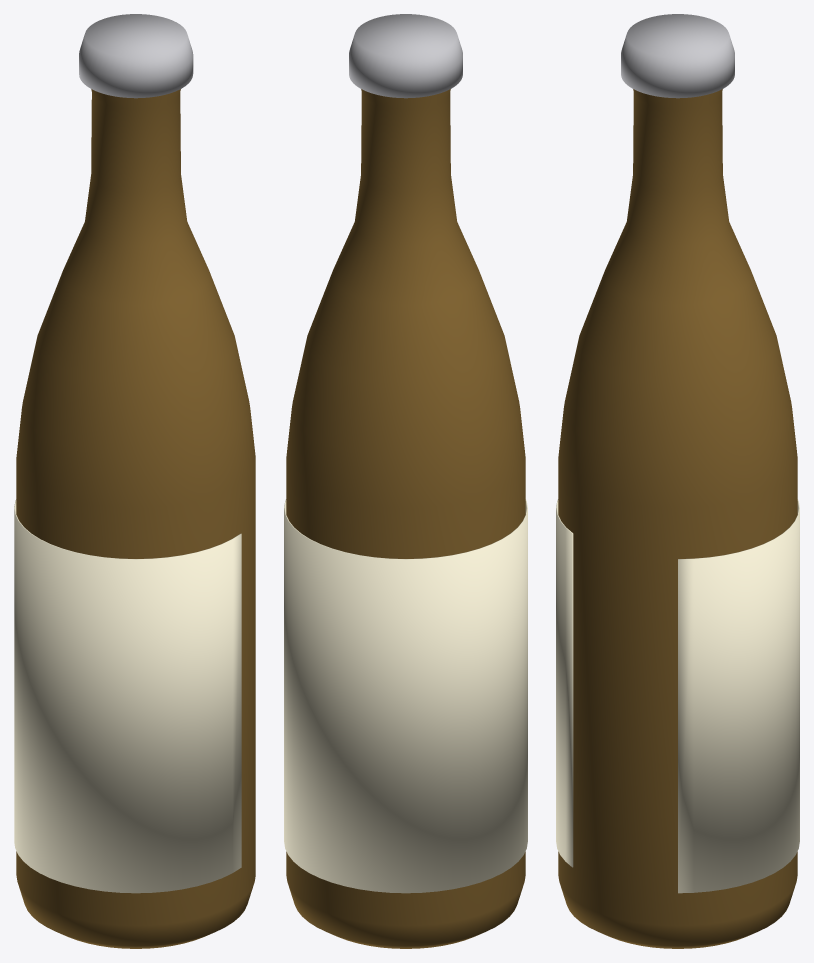
The model's file is bottle_beer.glb.
3 renders of one model, left to right at view 1: azimuth 30°, elevation 25°; view 2: azimuth 150°, elevation 25°; view 3: azimuth 270°, elevation 25°, orthographic.
Parts seen in each view (by area): view 1: Glass, Label, Cap; view 2: Glass, Label, Cap; view 3: Glass, Label, Cap.
Part boxes in pixels (<box>): Glass: <box>16,89,255,948</box>; Label: <box>14,499,241,893</box>; Cap: <box>79,14,193,98</box>; Glass: <box>286,89,525,948</box>; Label: <box>284,499,527,893</box>; Cap: <box>349,14,462,98</box>; Glass: <box>558,89,797,948</box>; Label: <box>556,499,799,893</box>; Cap: <box>621,14,734,98</box>.
Size of the model in its own units: 0.0662 by 0.2615 by 0.0662.
